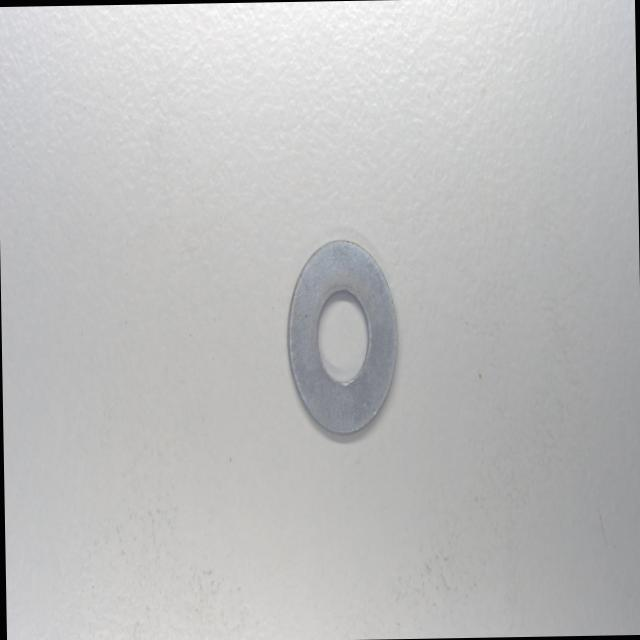washer: (283, 231, 401, 435)
